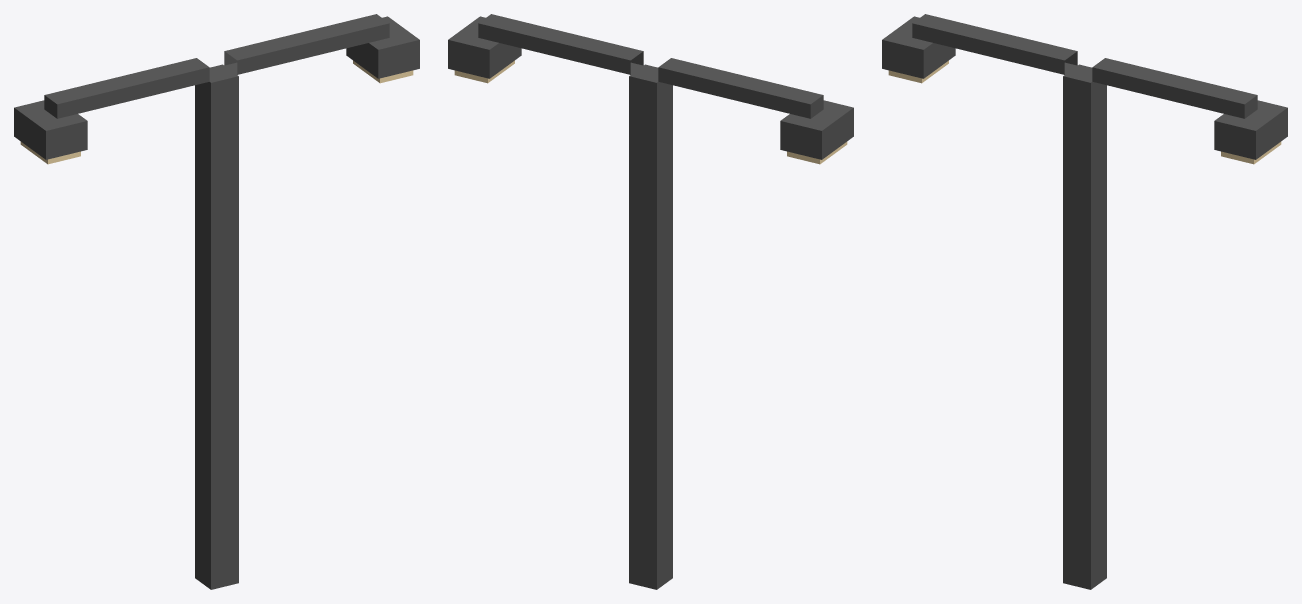
The model's file is streetlight.obj.
3 views of the same model, side by side, from view 1: azimuth 30°, elevation 25°; view 2: azimuth 150°, elevation 25°; view 3: azimuth 330°, elevation 25° (orthographic).
Parts seen in each view (by area): view 1: StreetLight; view 2: StreetLight; view 3: StreetLight.
Part boxes in pixels (left/top/right/bottom): StreetLight: left=14, top=14, right=419, bottom=589; StreetLight: left=448, top=14, right=853, bottom=589; StreetLight: left=882, top=14, right=1287, bottom=589.
Size of the model in its own units: 2.7 by 3.6 by 0.4.
